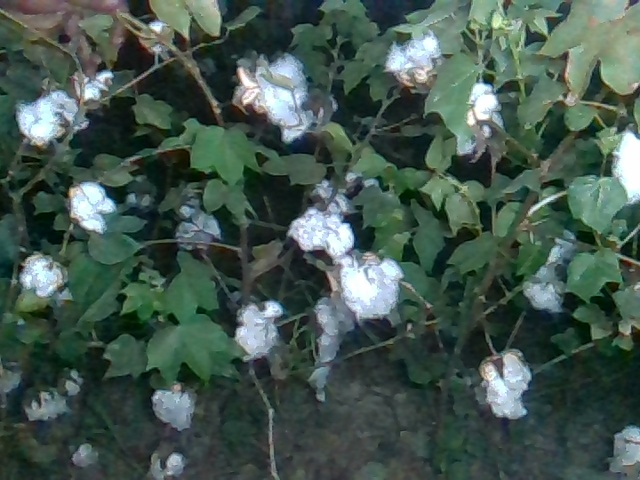cotton: (232, 49, 315, 131), (287, 177, 357, 253), (11, 82, 91, 147), (520, 224, 577, 314), (335, 249, 404, 321), (474, 344, 533, 427), (228, 294, 288, 372), (378, 27, 443, 82), (454, 81, 502, 153), (16, 251, 75, 303), (64, 178, 116, 233), (148, 381, 200, 432), (609, 124, 640, 202), (71, 66, 122, 111), (19, 384, 70, 423), (148, 447, 186, 480), (57, 366, 84, 396)
